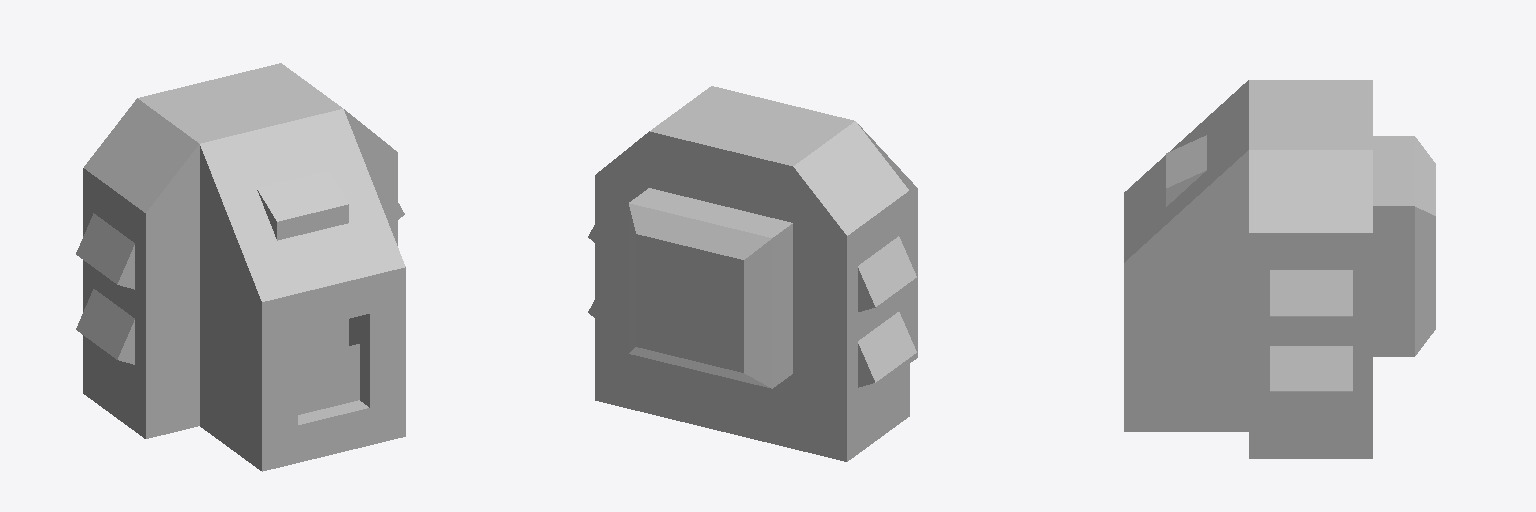
The model's file is actuator_fire_body.obj.
3 views of the same model, side by side, from view 1: azimuth 30°, elevation 25°; view 2: azimuth 150°, elevation 25°; view 3: azimuth 270°, elevation 25° (orthographic).
Parts seen in each view (by area): view 1: INFERNO_ENGINE_BODY_Cube.009; view 2: INFERNO_ENGINE_BODY_Cube.009; view 3: INFERNO_ENGINE_BODY_Cube.009.
Part boxes in pixels (left/top/right/bottom): INFERNO_ENGINE_BODY_Cube.009: left=76, top=63, right=405, bottom=471; INFERNO_ENGINE_BODY_Cube.009: left=588, top=86, right=917, bottom=461; INFERNO_ENGINE_BODY_Cube.009: left=1124, top=80, right=1435, bottom=458.
Size of the model in its own units: 1 by 0.9375 by 0.9375.